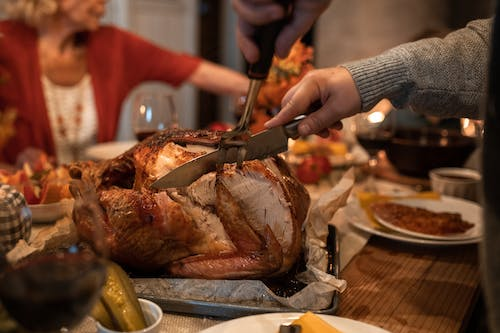knife: (146, 113, 308, 191)
